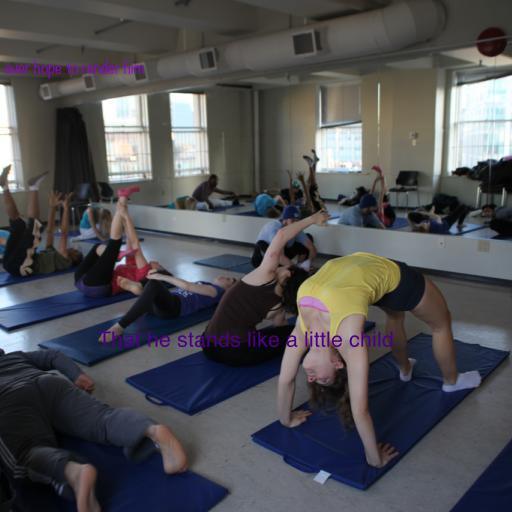Noteworthy: (4, 60, 144, 80)
SF Pro: (98, 331, 394, 348)
